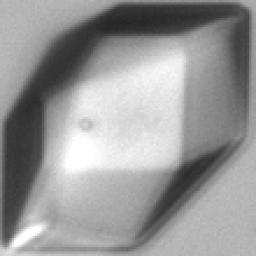crystals: (2, 4, 244, 251)
